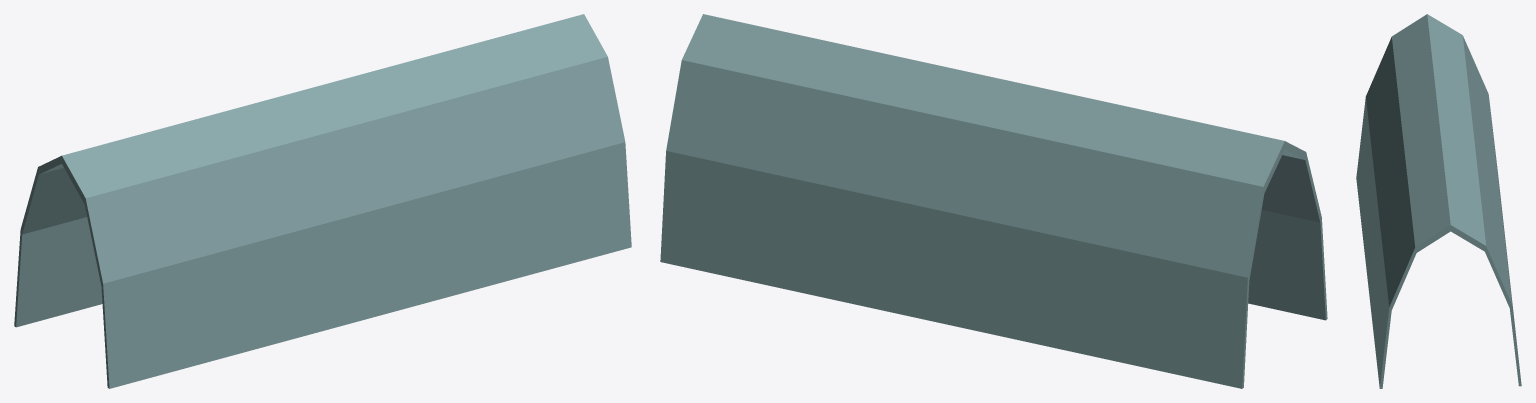
The model's file is 3dplat.fbx.
3 views of the same model, side by side, from view 1: azimuth 30°, elevation 25°; view 2: azimuth 150°, elevation 25°; view 3: azimuth 270°, elevation 25° (orthographic). The views are drawn at different scales.
Parts seen in each view (by area): view 1: Arch; view 2: Arch; view 3: Arch.
Part boxes in pixels (x1,y1,x2,y2): Arch: [14, 14, 631, 388]; Arch: [660, 14, 1327, 388]; Arch: [1356, 14, 1521, 388].
Size of what is drawn, in the model's own units: 2024 by 718 by 662.
